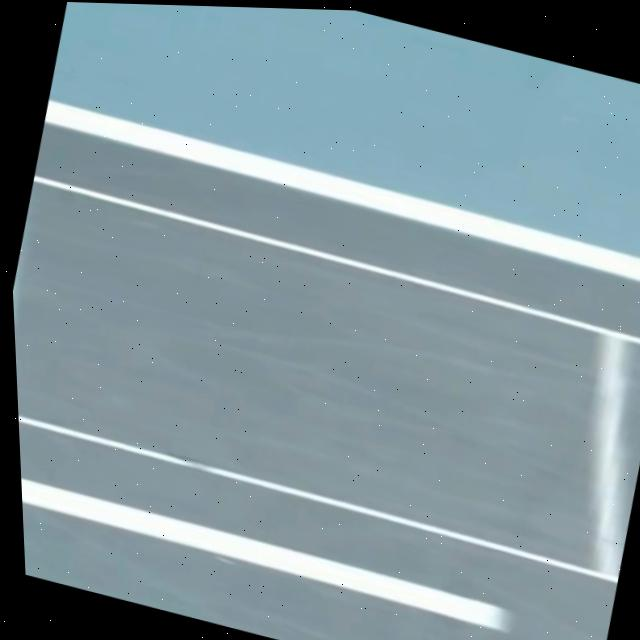center: (21, 477, 508, 629)
left: (43, 99, 640, 280)
